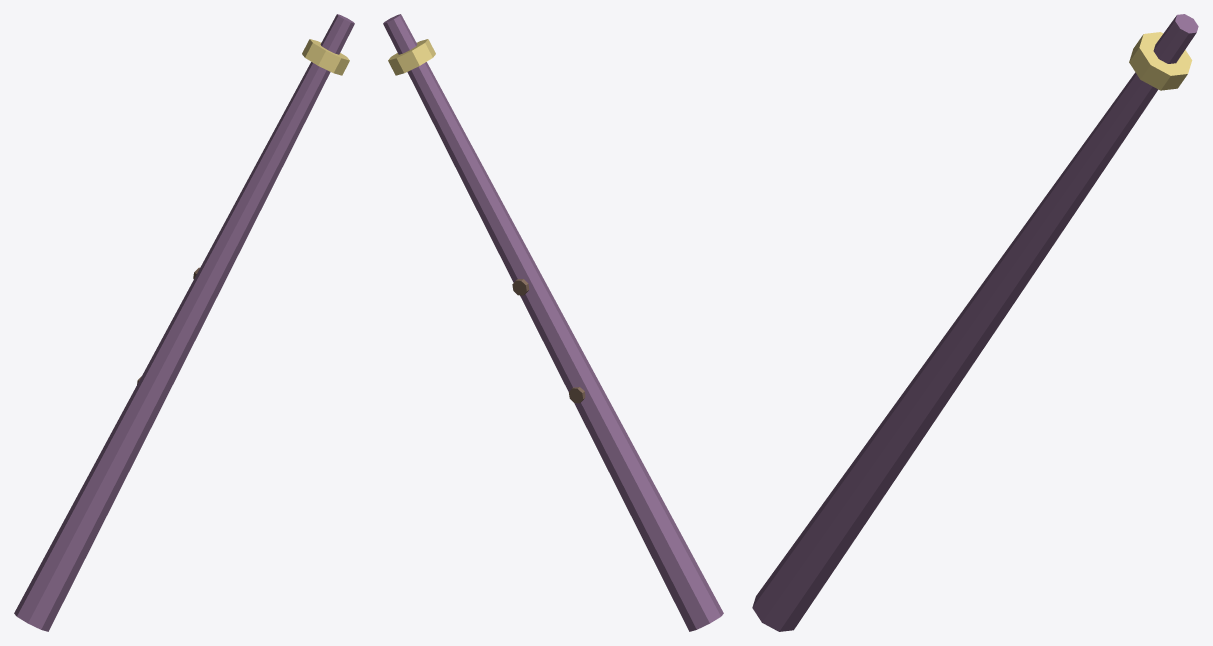
Rendered from scabbard.glb.
The picture shows the model from 3 angles, left to right: view 1: azimuth 30°, elevation 25°; view 2: azimuth 150°, elevation 25°; view 3: azimuth 330°, elevation 25°; orthographic projection. The views are drawn at different scales.
Parts seen in each view (by area): view 1: scabbard; view 2: scabbard; view 3: scabbard.
Boxes of the visible parts, x1,y1,x2,y2 form: scabbard: [14, 14, 354, 631]; scabbard: [383, 14, 723, 631]; scabbard: [752, 14, 1198, 631].
Size of the model in its own units: 0.4536 by 0.697 by 0.054.
